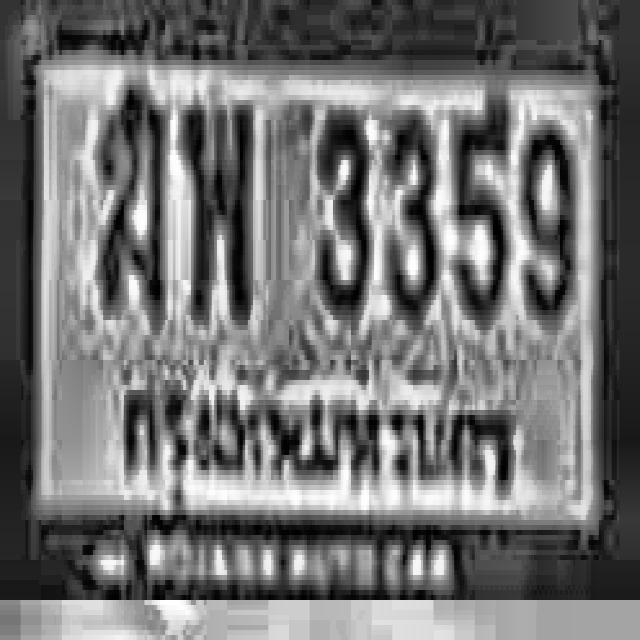license-plate: (7, 14, 638, 596)
